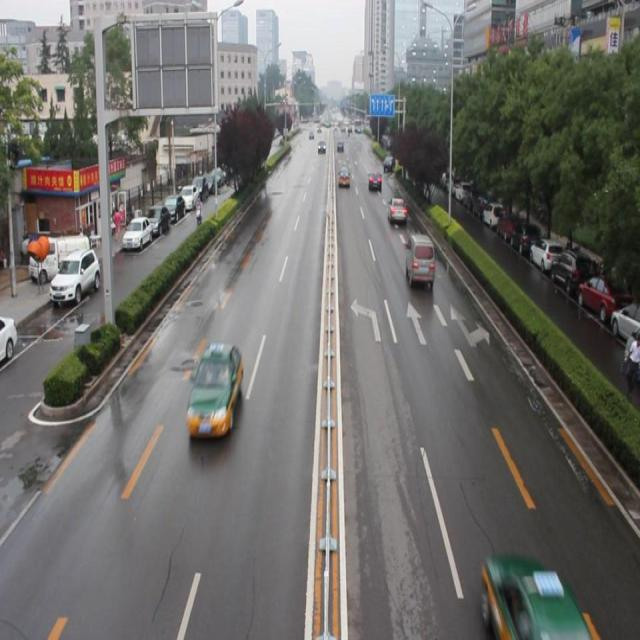car: (186, 343, 243, 437), (386, 194, 407, 223), (367, 169, 382, 190), (337, 165, 349, 188), (382, 154, 395, 172)
truck: (404, 232, 435, 288)
